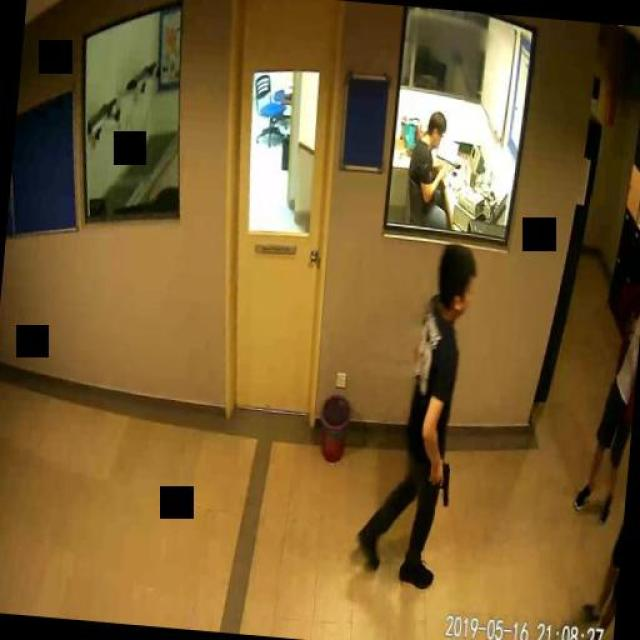gun: (430, 462, 451, 508)
